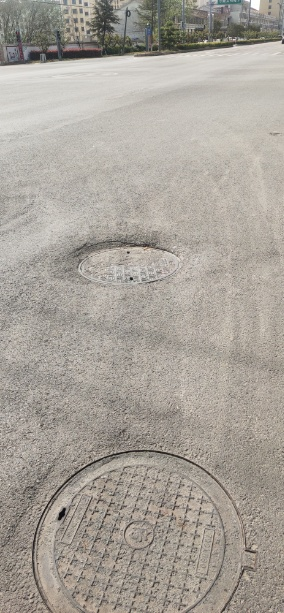good: (30, 449, 258, 613), (73, 244, 182, 287)
